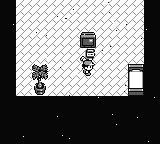leer: (80, 32, 96, 62)
main: (82, 60, 95, 76)
no-caminable: (1, 0, 160, 143), (32, 64, 49, 96), (128, 64, 143, 95)
